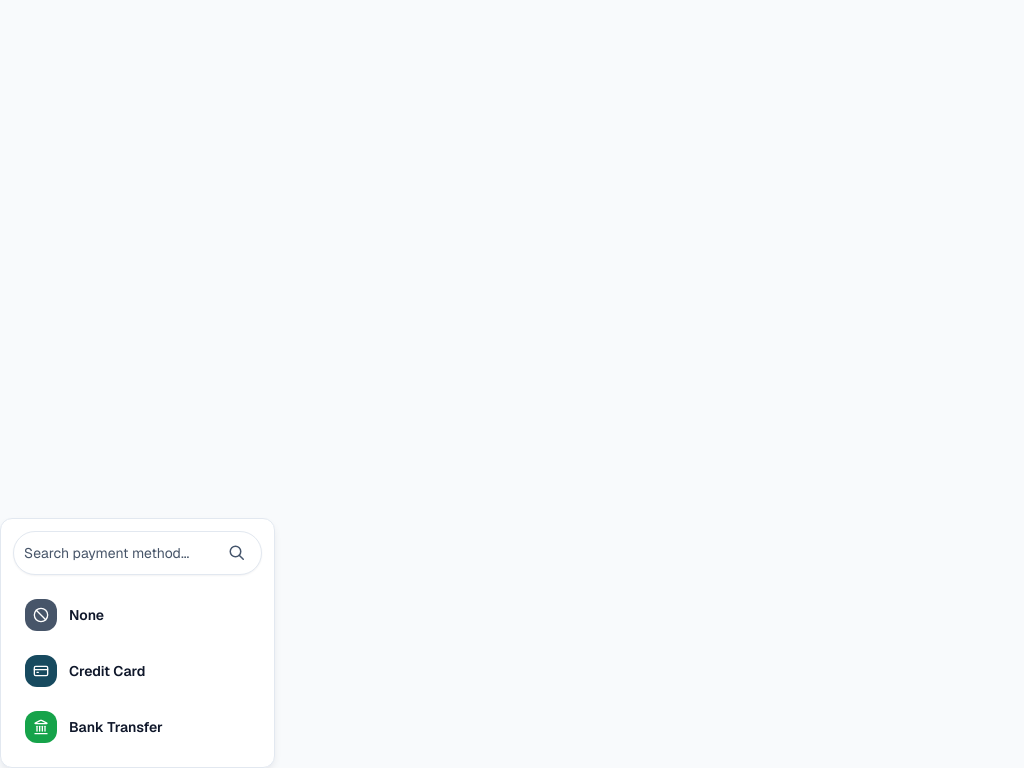
Test case: PaymentOptionDropdown › shows an empty state when nothing matches
(page scrolled)
Type "zzzz" into the search field at (120, 553), box [24,537,215,569]
(page scrolled)
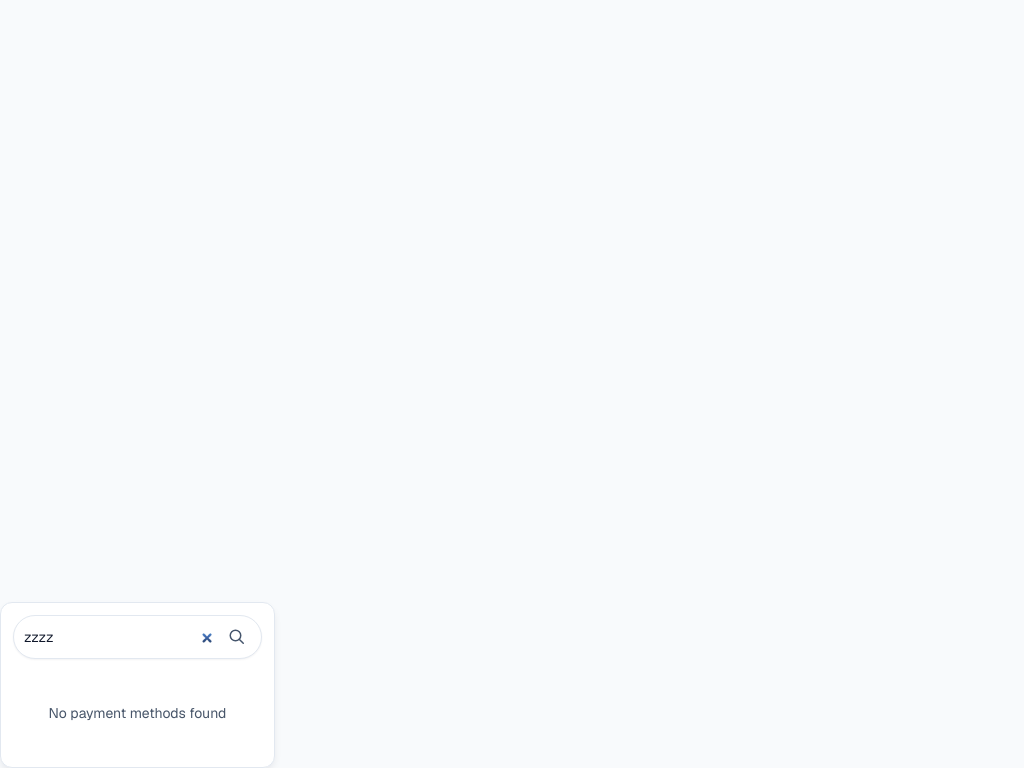
Result: no options are shown
Result: the list item "No payment methods found" is shown at [48,704,226,722]
